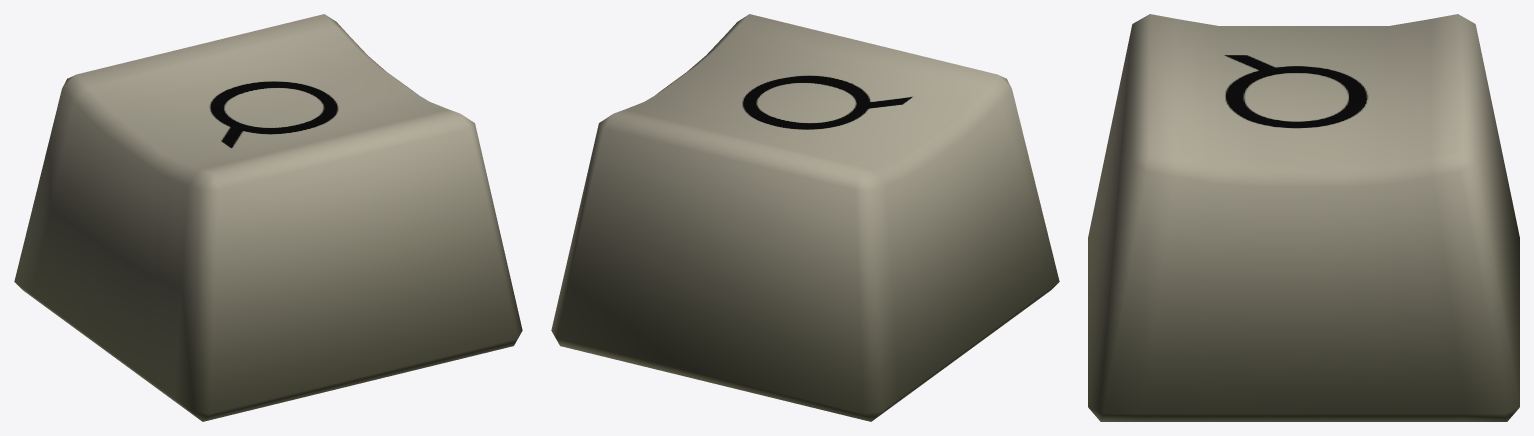
The model's file is keycap.gltf.
3 views of the same model, side by side, from view 1: azimuth 30°, elevation 25°; view 2: azimuth 150°, elevation 25°; view 3: azimuth 270°, elevation 25° (orthographic). The views are drawn at different scales.
Parts seen in each view (by area): view 1: small_k; view 2: small_k; view 3: small_k.
Boxes of the visible parts, left/top/right/bottom form: small_k: left=14, top=14, right=522, bottom=421; small_k: left=551, top=14, right=1059, bottom=421; small_k: left=1088, top=14, right=1519, bottom=421.
Size of the model in its own units: 1.98 by 1.28 by 1.98.
